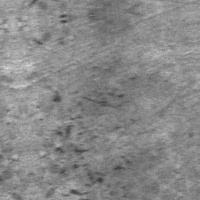rolled-in_scale: (28, 79, 136, 199), (13, 18, 79, 52)
